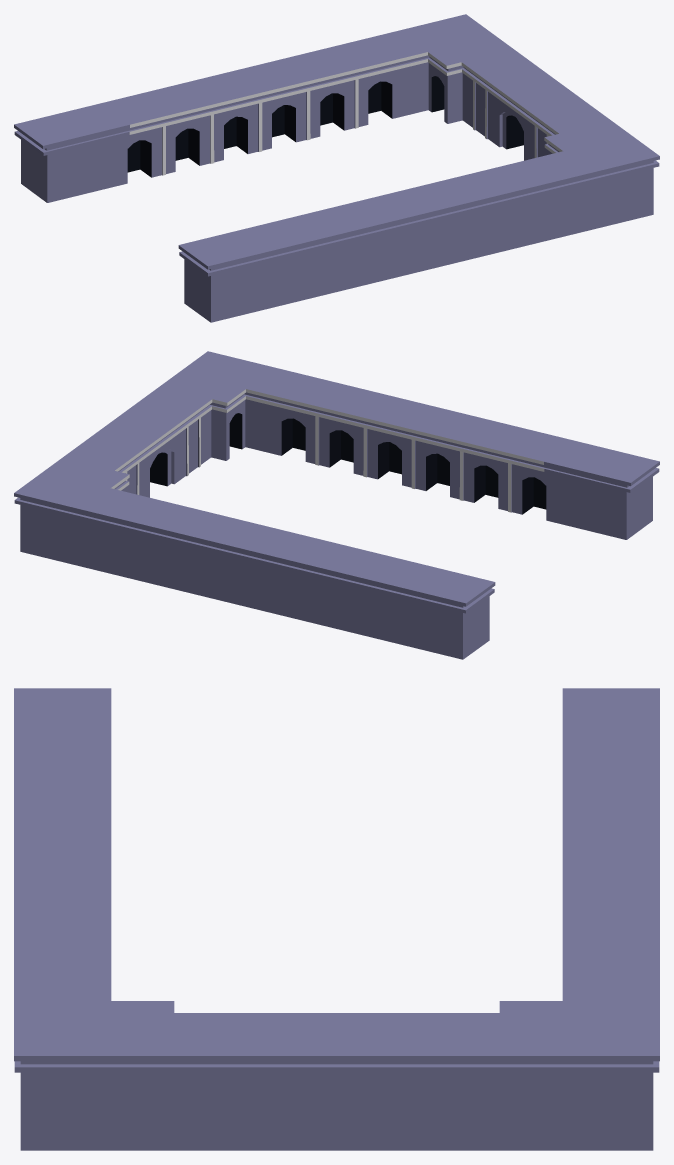
File: valle_abierto.FBX
3 renders of one model, top to bottom at view 1: azimuth 30°, elevation 25°; view 2: azimuth 150°, elevation 25°; view 3: azimuth 270°, elevation 25°, orthographic. The views are drawn at different scales.
Parts seen in each view (by area): view 1: valle; view 2: valle; view 3: valle.
Part boxes in pixels (bbox=[...]): valle: bbox=[14, 14, 659, 322]; valle: bbox=[14, 351, 659, 659]; valle: bbox=[14, 688, 659, 1150].
Bounding box in the file's own units: 1060 × 132 × 787.
